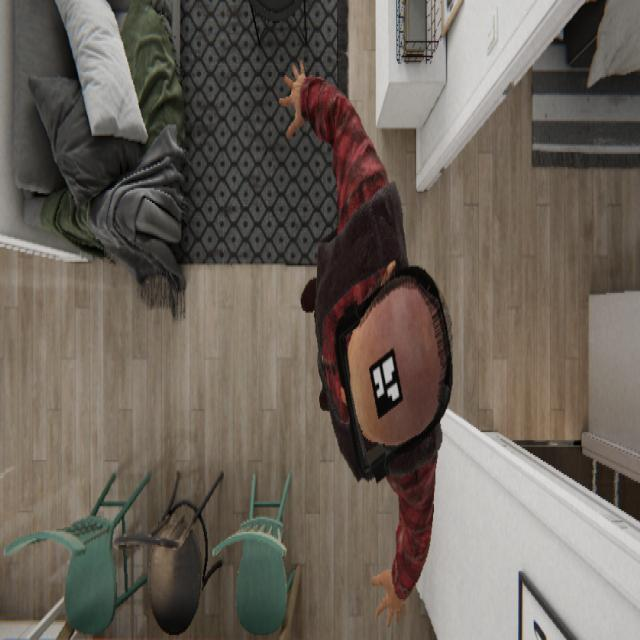AruCO: (368, 344, 403, 419)
Human: (277, 57, 454, 627)
